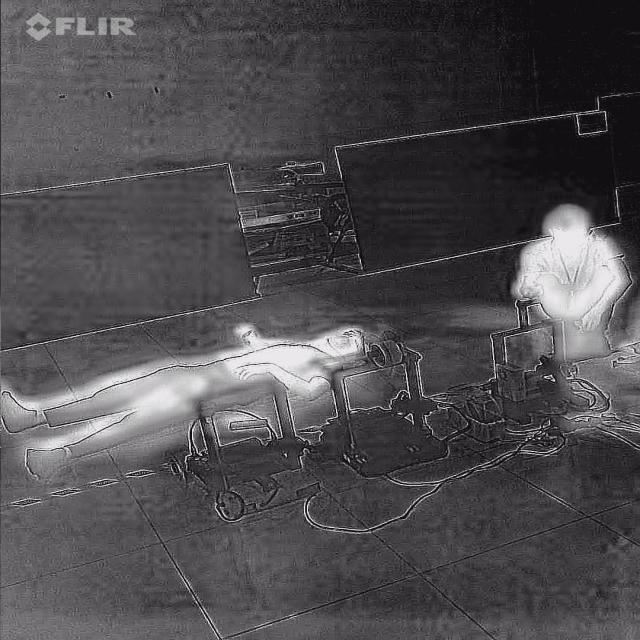Victim: (0, 318, 384, 487), (508, 195, 634, 357)
